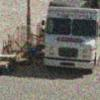buses: (47, 0, 100, 71)
